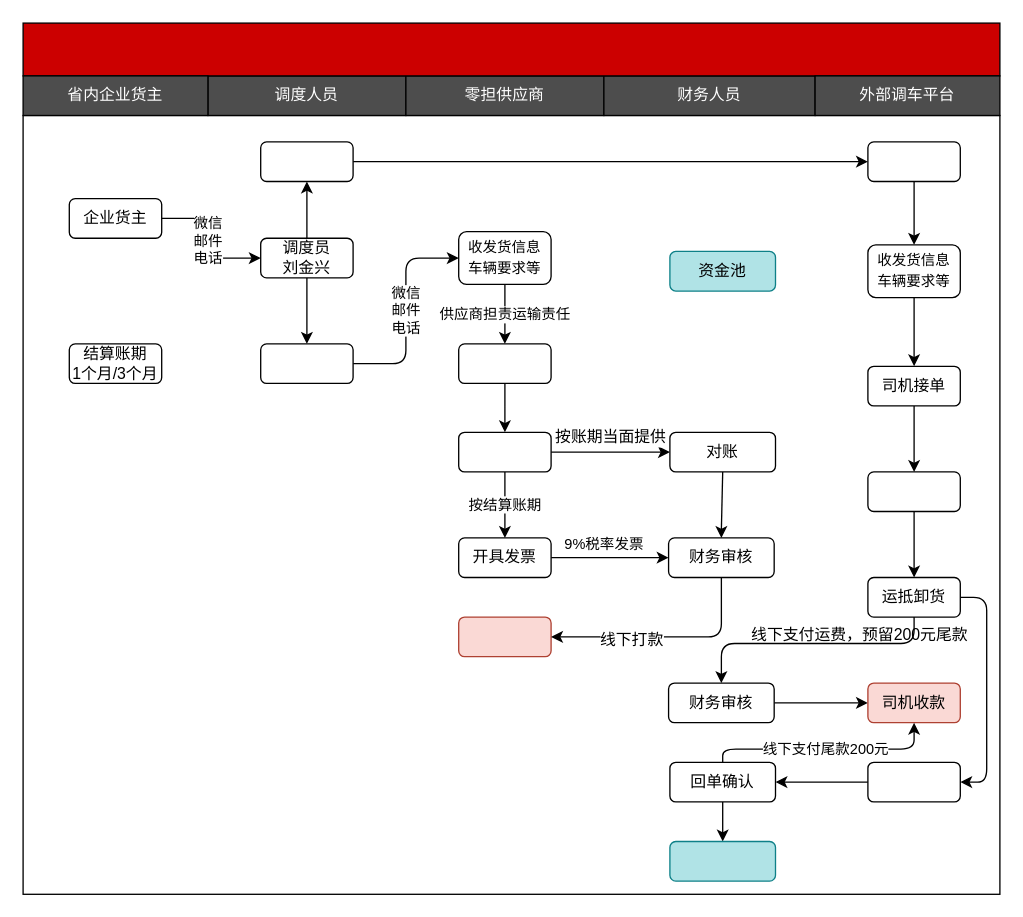
Some shapes in this 1023 by 917 pixel diagram are drawn without their labels. The centre of each missing label's shape, as x and y in pixels:
"代开司机3%税率发票" goes at (x=722, y=860).
"体系外业务流程" goes at (x=511, y=49).
"发布货源" goes at (x=913, y=161).
"回单 承运凭证" goes at (x=504, y=451).
"回单邮寄" goes at (x=913, y=781).
"承运" goes at (x=504, y=363).
"提货" goes at (x=913, y=491).
"收款" goes at (x=504, y=636).
"整车货源" goes at (x=306, y=161).
"零担货源" goes at (x=306, y=363).
